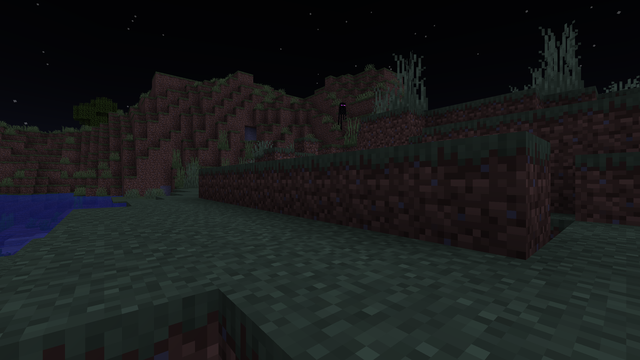endermens: (338, 101, 345, 129)
